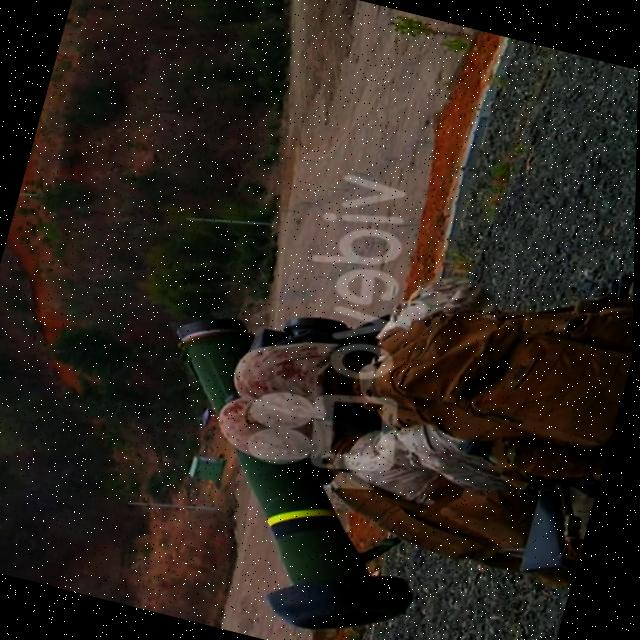rocket: (98, 274, 483, 640)
